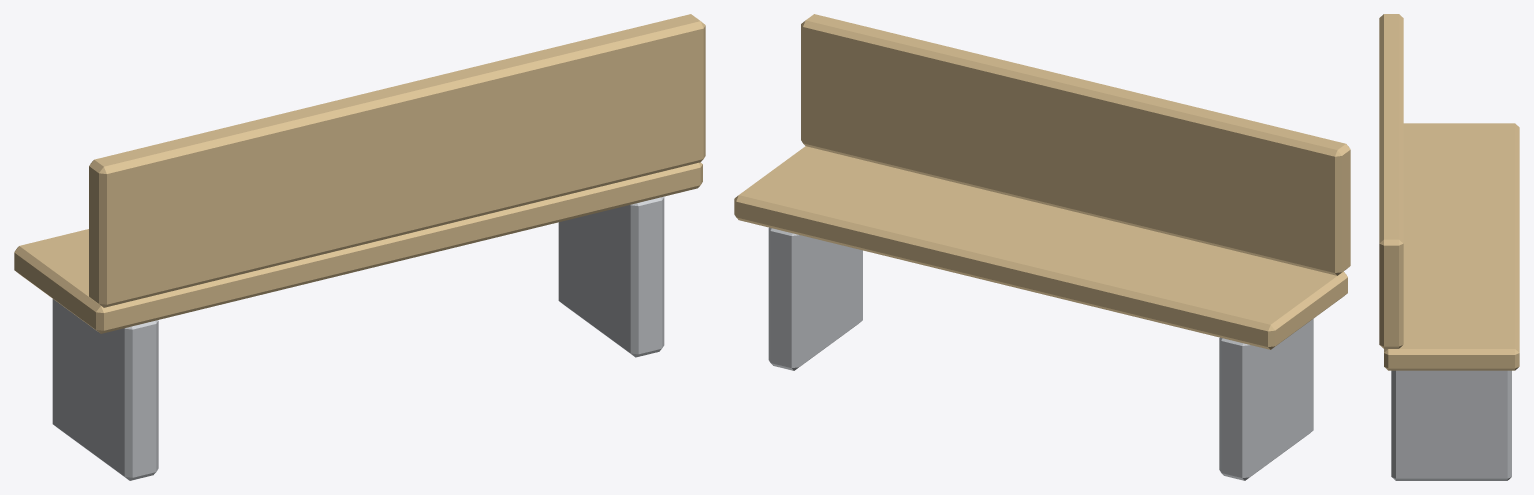
3 views of the same model, side by side, from view 1: azimuth 30°, elevation 25°; view 2: azimuth 150°, elevation 25°; view 3: azimuth 270°, elevation 25° (orthographic). The views are drawn at different scales.
Parts seen in each view (by area): view 1: 靠背.002, 椅腿, 座板.002; view 2: 靠背.002, 座板.002, 椅腿; view 3: 座板.002, 椅腿, 靠背.002.
Boxes of the visible parts, left/top/right/bottom form: 靠背.002: left=89, top=14, right=705, bottom=307; 椅腿: left=52, top=196, right=664, bottom=480; 座板.002: left=14, top=162, right=702, bottom=333; 靠背.002: left=801, top=14, right=1350, bottom=275; 座板.002: left=734, top=146, right=1347, bottom=349; 椅腿: left=768, top=227, right=1313, bottom=480; 座板.002: left=1384, top=123, right=1519, bottom=370; 椅腿: left=1391, top=370, right=1511, bottom=480; 靠背.002: left=1379, top=14, right=1403, bottom=348.
Size of the model in its own units: 180 by 93 by 46.5.
